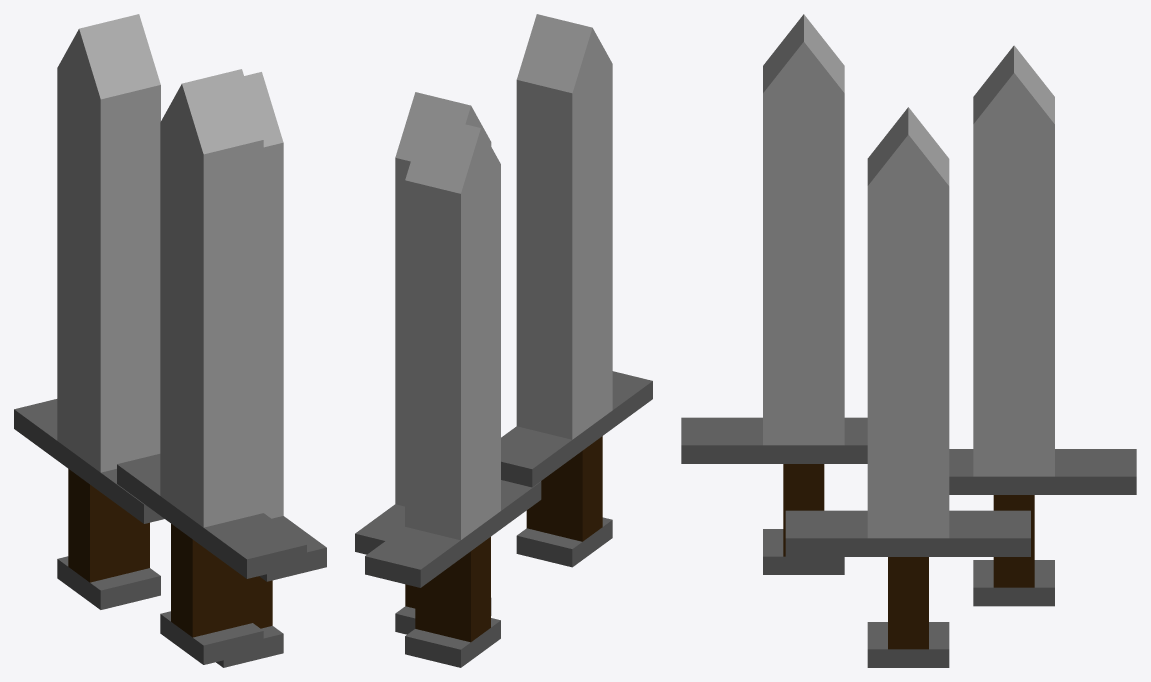
The model's file is AttackSpeed.fbx.
The picture shows the model from 3 angles, left to right: view 1: azimuth 30°, elevation 25°; view 2: azimuth 150°, elevation 25°; view 3: azimuth 270°, elevation 25°; orthographic projection. The views are drawn at different scales.
Parts seen in each view (by area): view 1: Sword; view 2: Sword; view 3: Sword.
Part boxes in pixels (box(x1,y1,x2,y2)): Sword: box(14, 14, 326, 667); Sword: box(355, 14, 652, 667); Sword: box(681, 14, 1136, 667).
Bounding box in the file's own units: 45.1 × 200 × 139.
